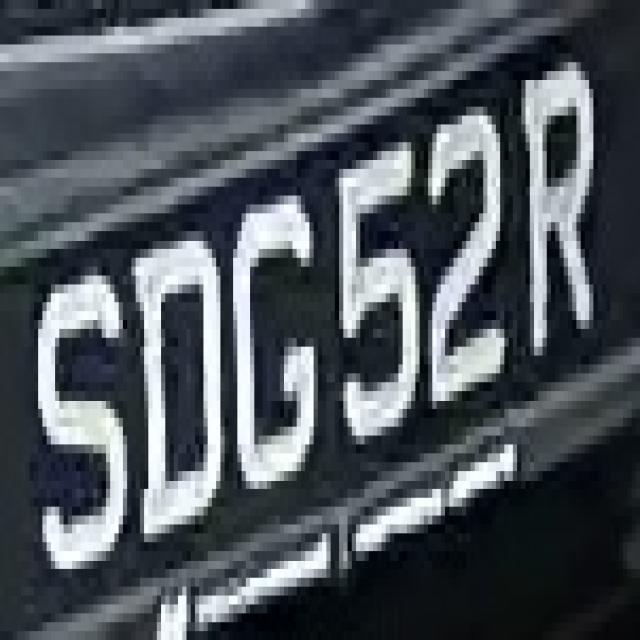2: (407, 80, 508, 453)
5: (326, 125, 428, 462)
D: (131, 222, 229, 551)
G: (216, 186, 339, 506)
R: (513, 27, 614, 364)
S: (26, 258, 127, 586)
